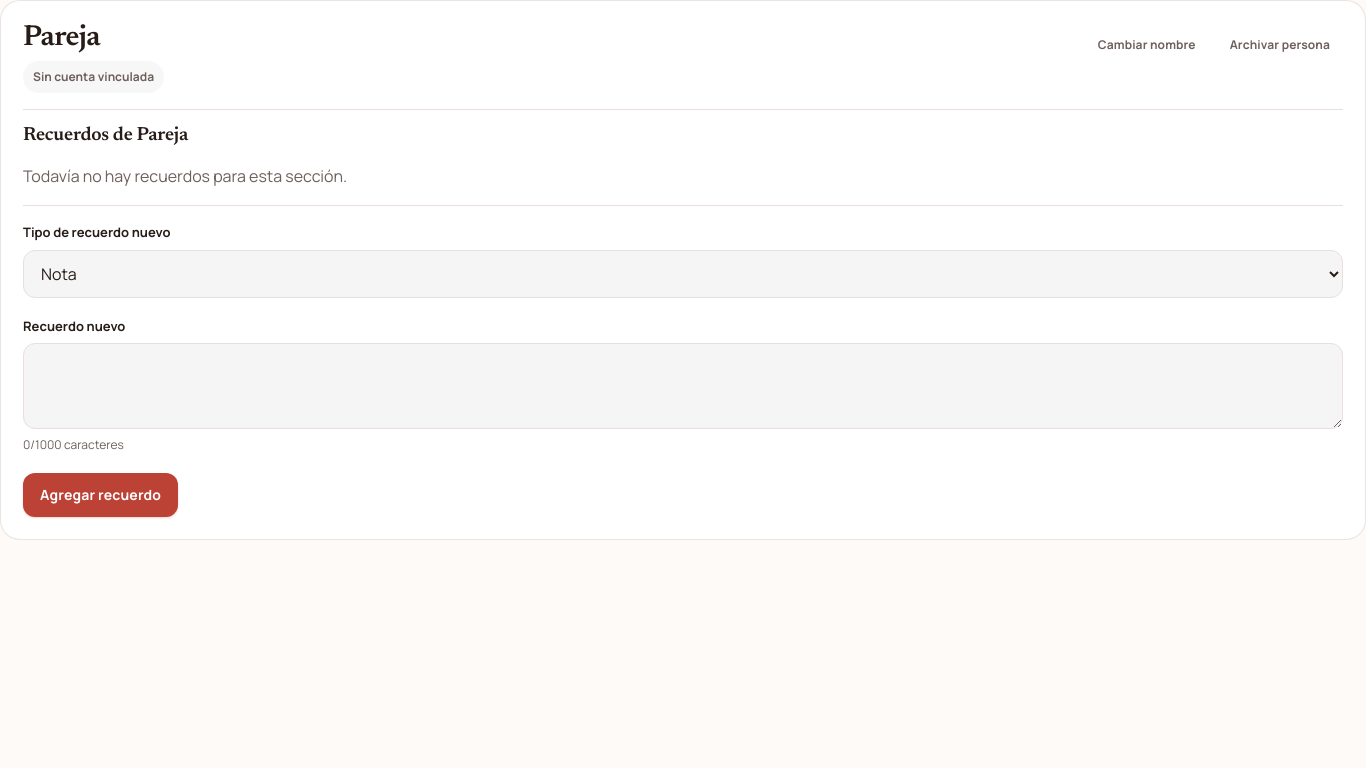
Test: DinerCard › marks duplicate display-name conflicts on the rename field
The width and height of the screenshot is (1366, 768).
Click the button with aria-label "Cambiar nombre de Pareja".
click(1147, 45)  # box [1085, 23, 1209, 67]
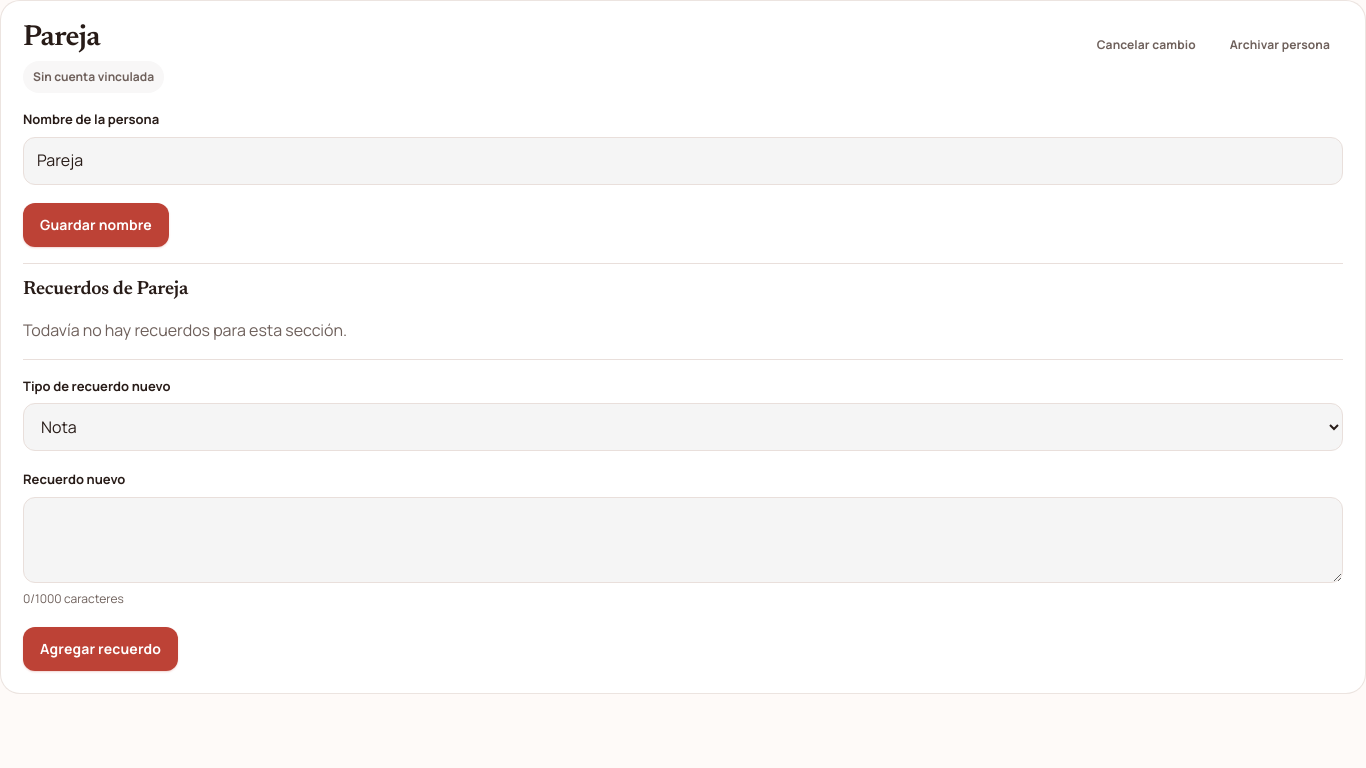
Replace the text in the field labelled "Nombre de la persona" with "Mi pareja" at x=683, y=161, box [23, 137, 1343, 185]
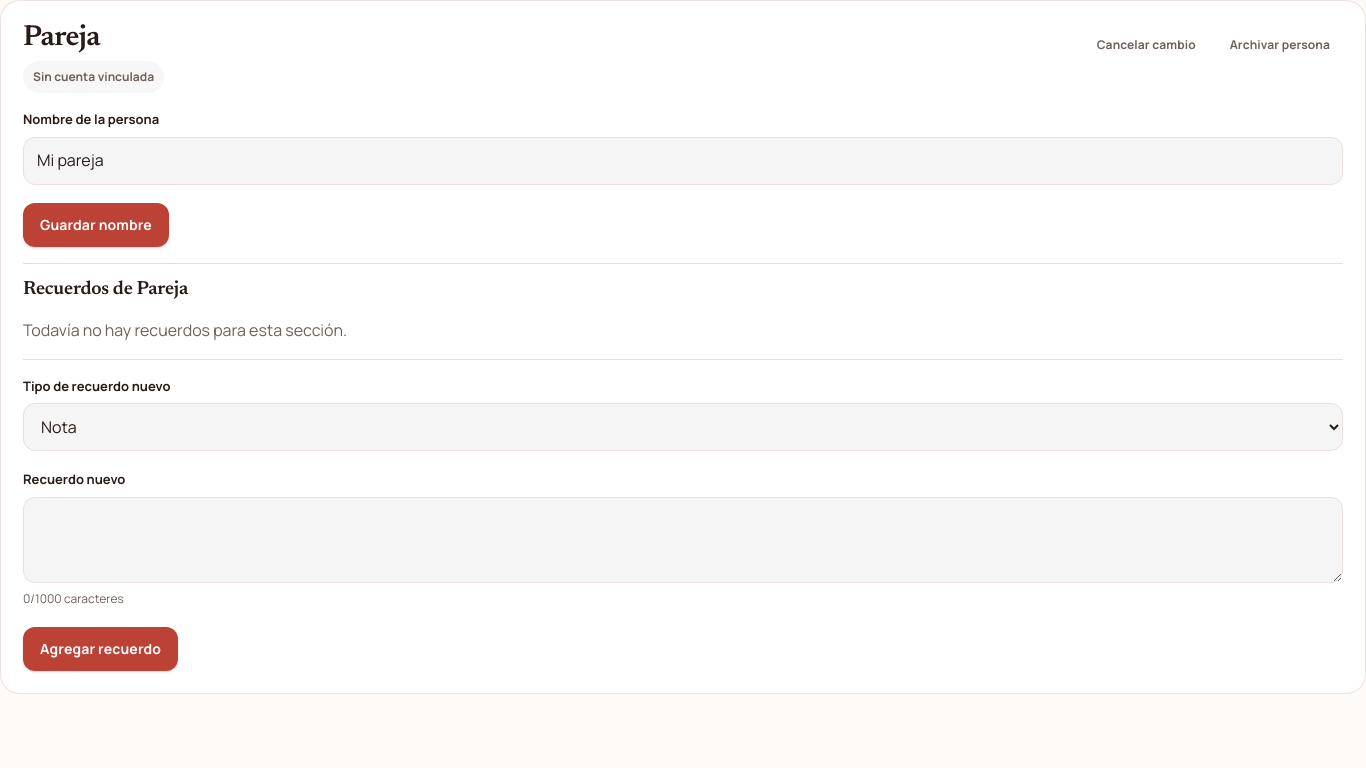
Click the button "Guardar nombre".
click(96, 225)  # box [23, 203, 169, 247]
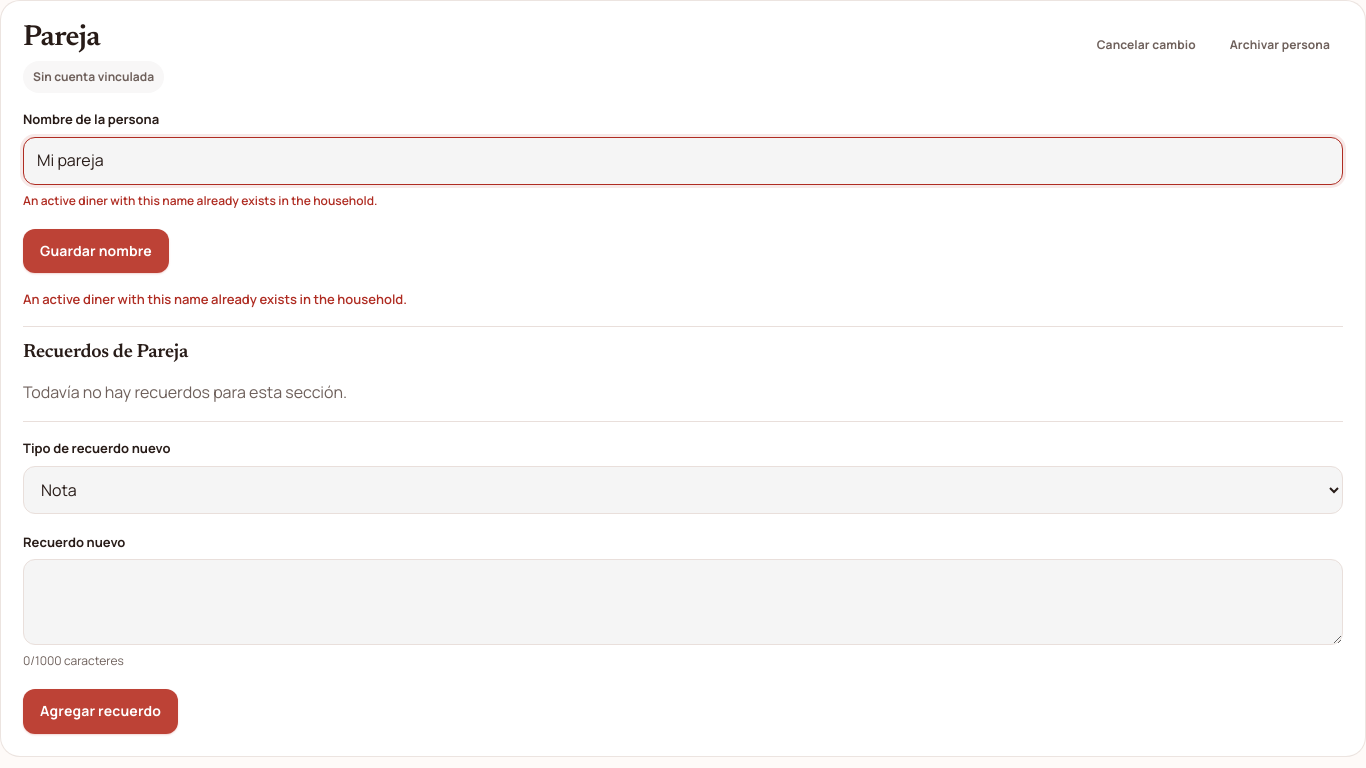
Expected: the message shows "already exists", [23, 290, 407, 308]
